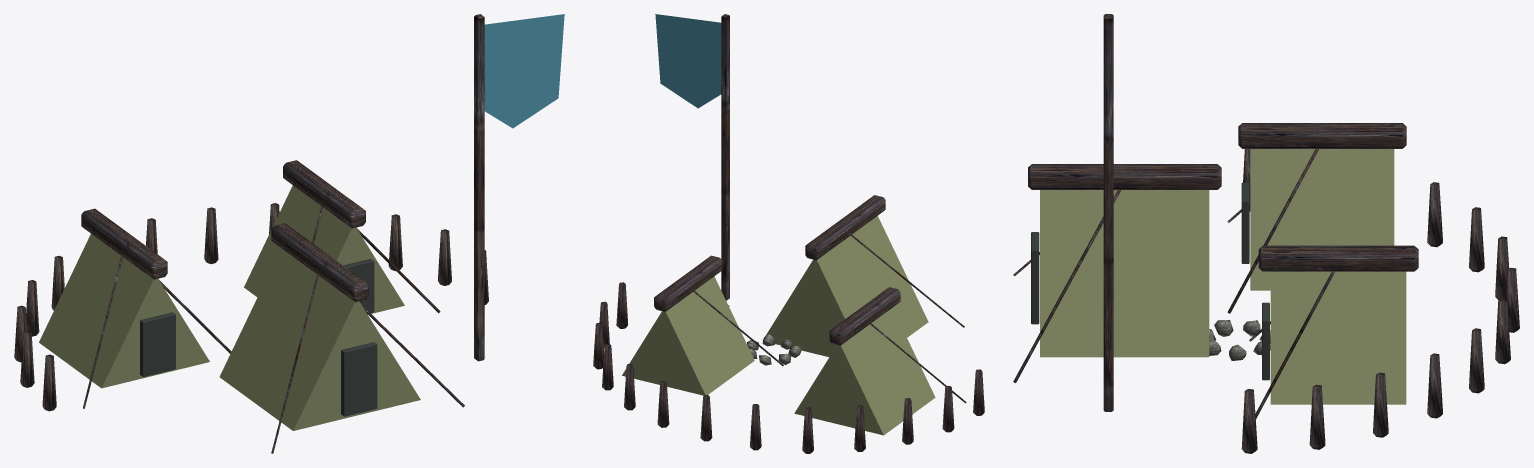
File: env-site-volkareCamp-mobile.glb
3 renders of one model, left to right at view 1: azimuth 30°, elevation 25°; view 2: azimuth 150°, elevation 25°; view 3: azimuth 270°, elevation 25°, orthographic. The views are drawn at different scales.
Parts seen in each view (by area): view 1: site volkareCamp · authored textured miniature; view 2: site volkareCamp · authored textured miniature; view 3: site volkareCamp · authored textured miniature.
Part boxes in pixels (left/top/right/bottom): site volkareCamp · authored textured miniature: left=14, top=14, right=564, bottom=453; site volkareCamp · authored textured miniature: left=593, top=14, right=984, bottom=453; site volkareCamp · authored textured miniature: left=1013, top=14, right=1519, bottom=453.
Bounding box in the file's own units: 1.51 × 1.1 × 1.26.
Materials: 5 (2 with a texture image).
